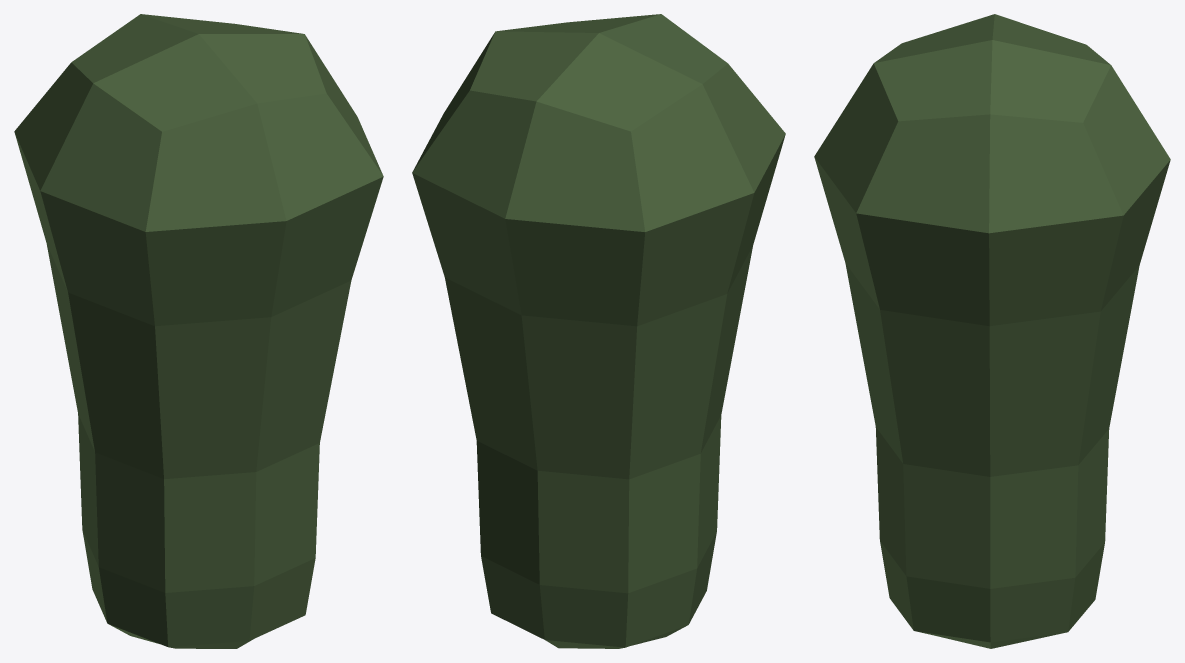
Rendered from cactus_1.gltf.
3 views of the same model, side by side, from view 1: azimuth 30°, elevation 25°; view 2: azimuth 150°, elevation 25°; view 3: azimuth 270°, elevation 25° (orthographic).
Parts seen in each view (by area): view 1: cactus_1; view 2: cactus_1; view 3: cactus_1.
Part boxes in pixels (x1,y1,x2,y2): cactus_1: (14,14,383,648); cactus_1: (412,14,785,648); cactus_1: (814,14,1170,648).
Bounding box in the file's own units: 0.0927 × 0.167 × 0.0927.
1 material, 1 textured.
